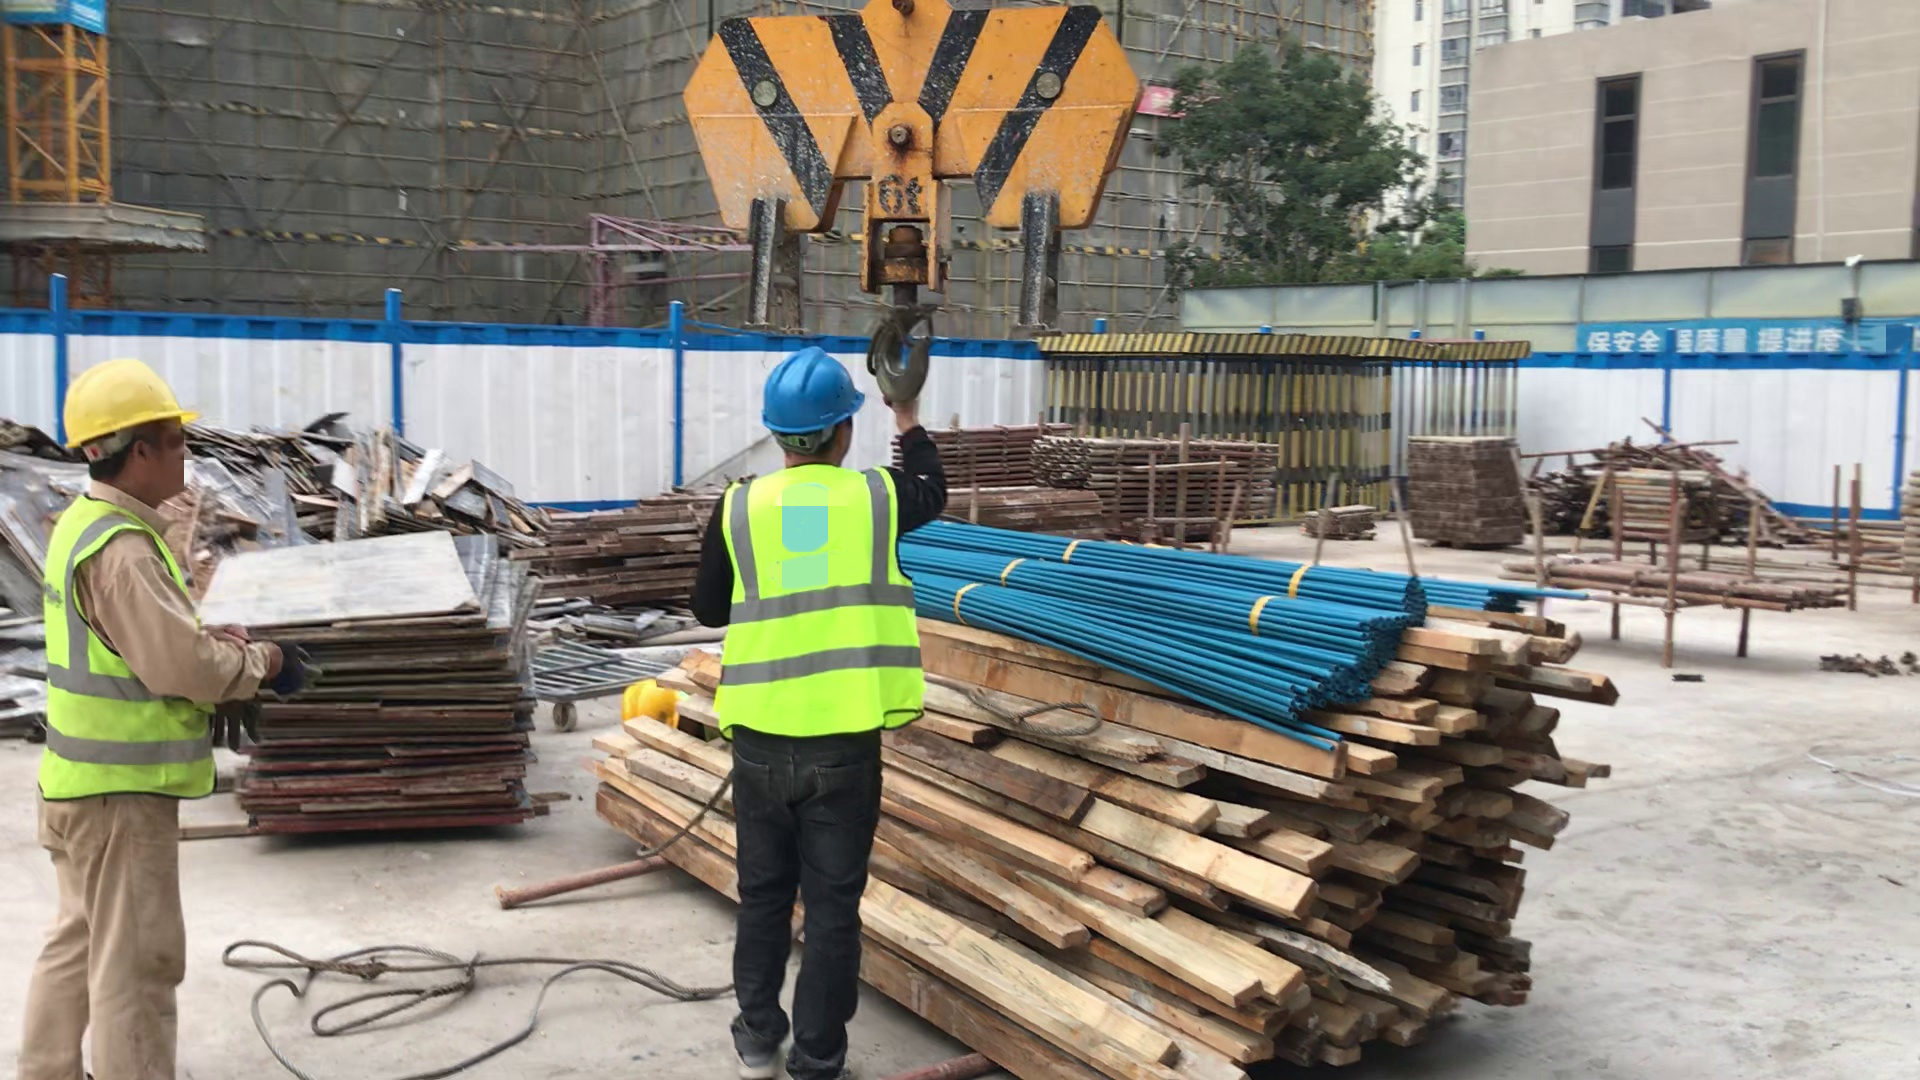board: (1, 387, 607, 770), (188, 537, 576, 845)
helmet: (38, 349, 227, 458), (751, 347, 878, 439)
hook: (650, 1, 1185, 422)
person: (12, 349, 330, 1080), (696, 338, 975, 1080), (602, 657, 711, 765)
scaffold: (1515, 515, 1884, 650), (1034, 424, 1296, 531)
slogan: (1576, 307, 1920, 370), (1, 1, 126, 43), (1140, 76, 1200, 116)
vest: (718, 464, 940, 766), (34, 493, 230, 824)
wood: (588, 496, 1649, 1080), (522, 484, 781, 607)
